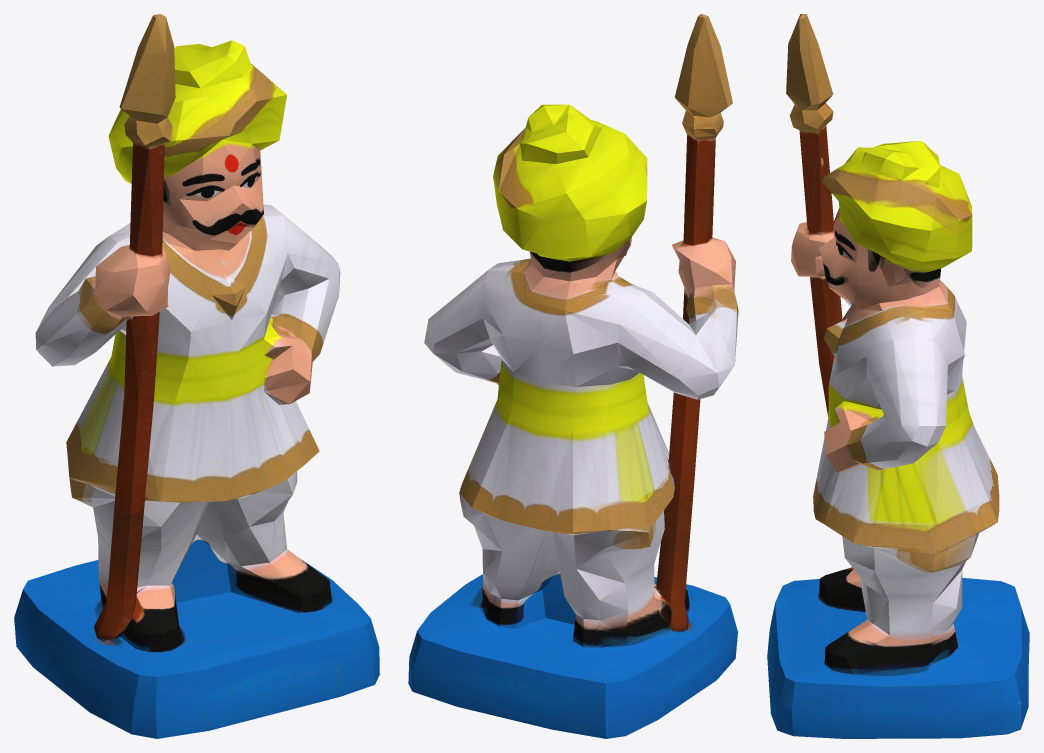
Rendered from Spearman.glb.
The picture shows the model from 3 angles, left to right: view 1: azimuth 30°, elevation 25°; view 2: azimuth 150°, elevation 25°; view 3: azimuth 270°, elevation 25°; orthographic projection. The views are drawn at different scales.
Visible parts, largest first — view 1: mesh_000; view 2: mesh_000; view 3: mesh_000.
Boxes of the visible parts, <box> form: mesh_000: <box>14,14,379,738</box>; mesh_000: <box>408,14,738,738</box>; mesh_000: <box>767,14,1029,738</box>.
Bounding box in the file's own units: 0.4473 × 0.9536 × 0.3604.
Materials: 1 (1 with a texture image).
